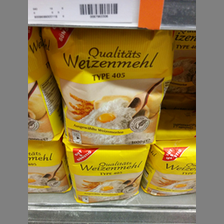flour: (42, 27, 171, 144), (61, 137, 150, 204), (141, 133, 195, 196)
